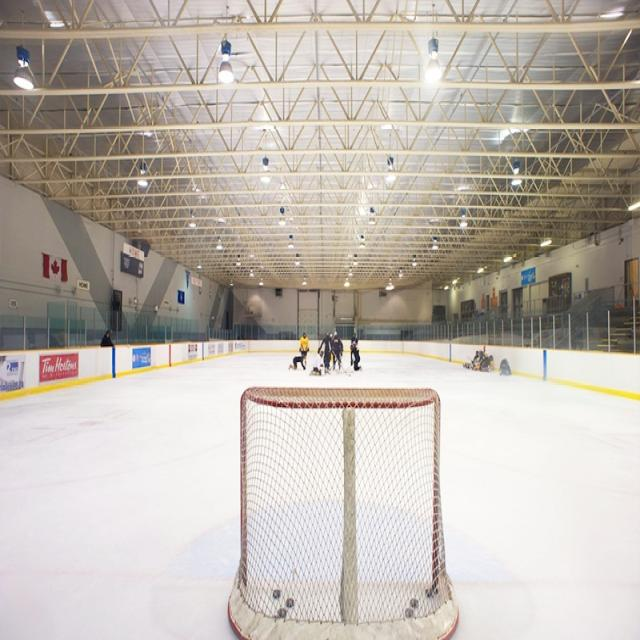body: (461, 345, 494, 373), (316, 330, 336, 373), (330, 329, 343, 371), (298, 330, 310, 367), (349, 340, 362, 373), (288, 352, 306, 370), (308, 361, 329, 375), (100, 329, 114, 349), (351, 330, 358, 344), (329, 333, 333, 339)
